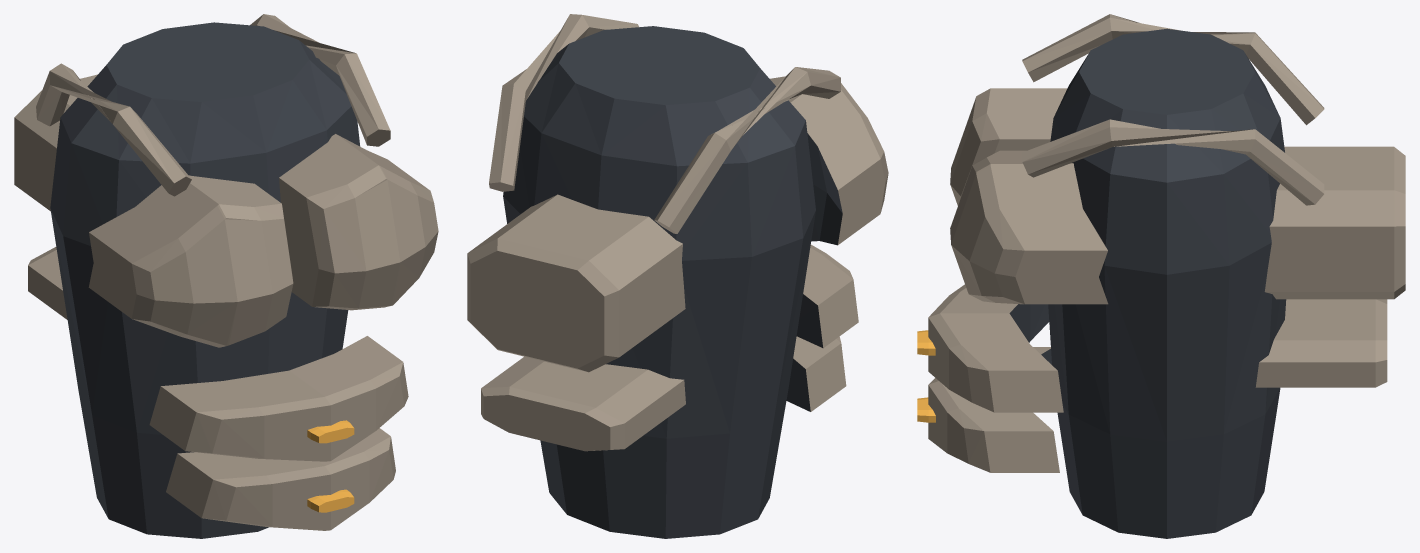
The model's file is torso_light.glb.
3 views of the same model, side by side, from view 1: azimuth 30°, elevation 25°; view 2: azimuth 150°, elevation 25°; view 3: azimuth 270°, elevation 25° (orthographic). The views are drawn at different scales.
Visible parts, largest first — view 1: torso_light; view 2: torso_light; view 3: torso_light.
Boxes of the visible parts, x1,y1,x2,y2 form: torso_light: (14,14,438,538); torso_light: (467,14,888,538); torso_light: (917,14,1405,538).
Size of the model in its own units: 0.7224 by 1.01 by 1.05.
